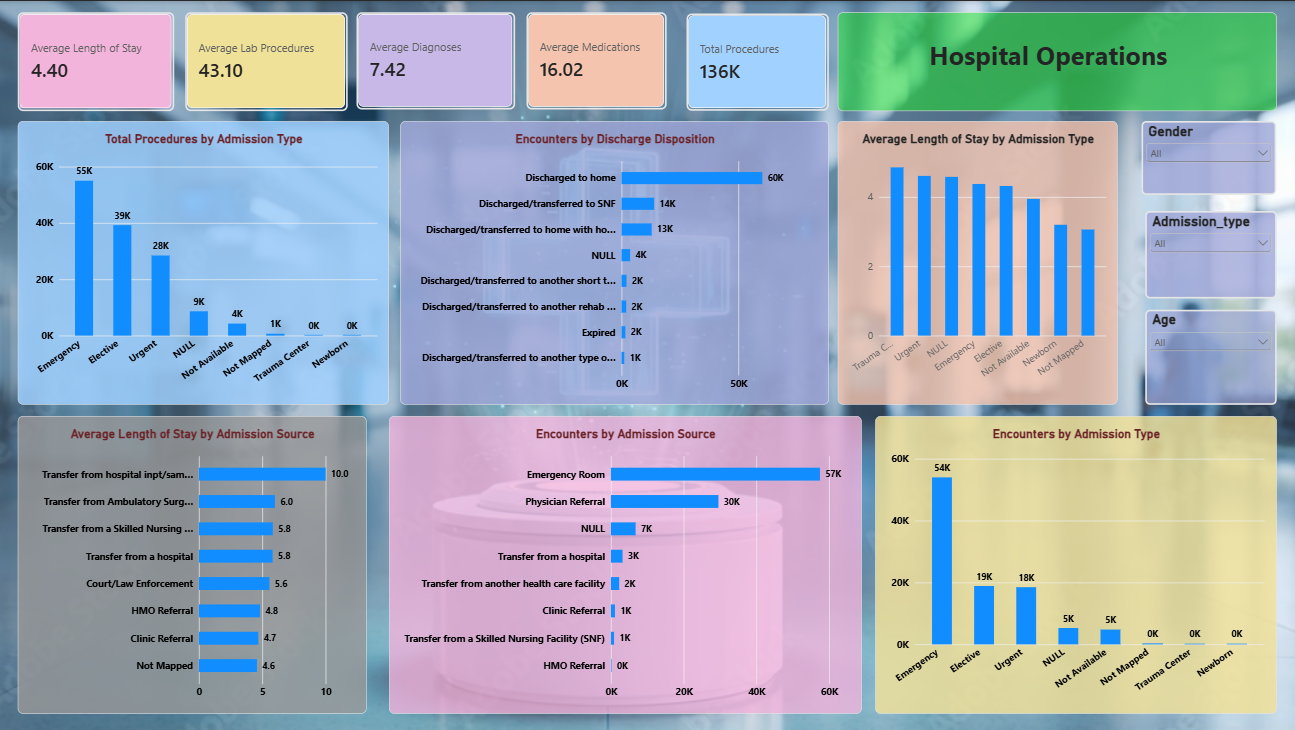

This screenshot's page, from the dashboard's own definition file:
{"tool":"powerbi","page":{"name":"Hospital Operations","canvas":[1920,1080],"ordinal":2},"visuals":[{"type":"textbox","box":[1235,16.6,646,145.4],"z":0},{"type":"cardVisual","fields":{"Data":["diabetic_data.Average Length of Stay"]},"box":[27.6,16.6,230.1,145.4],"z":1000},{"type":"cardVisual","fields":{"Data":["diabetic_data.Average Diagnoses"]},"box":[526.4,16.6,233.7,143.6],"z":2000},{"type":"cardVisual","fields":{"Data":["diabetic_data.Total Procedures"]},"box":[1012.3,18.4,209.8,143.6],"z":3000},{"type":"cardVisual","fields":{"Data":["diabetic_data.Average Lab Procedures"]},"box":[274.2,16.6,239.3,145.4],"z":4000},{"type":"cardVisual","fields":{"Data":["diabetic_data.Average Medications"]},"box":[776.7,16.6,206.1,143.6],"z":5000},{"type":"clusteredColumnChart","title":"Average Length of Stay by Admission Type","fields":{"Category":["Dim_Admission_Type.admission_type"],"Y":["diabetic_data.Average Length of Stay"]},"box":[1235,176.7,412.3,417.8],"z":6000},{"type":"clusteredBarChart","title":"Average Length of Stay by Admission Source","fields":{"Category":["Dim_Admission_Source.admission_source"],"Y":["diabetic_data.Average Length of Stay"]},"box":[27.6,611,513.5,438],"z":7000},{"type":"clusteredColumnChart","title":"Encounters by Admission Type","fields":{"Category":["Dim_Admission_Type.admission_type"],"Y":["CountNonNull(diabetic_data.encounter_id)"]},"box":[1290.2,611,590.8,438],"z":8000},{"type":"clusteredBarChart","title":"Encounters by Admission Source","fields":{"Category":["Dim_Admission_Source.admission_source"],"Y":["CountNonNull(diabetic_data.encounter_id)"]},"box":[574.2,611,695.7,438],"z":9000},{"type":"clusteredBarChart","title":"Encounters by Discharge Disposition","fields":{"Category":["Dim_Discharge.discharge_disposition"],"Y":["CountNonNull(diabetic_data.encounter_id)"]},"box":[590.8,176.7,631.3,417.8],"z":10000},{"type":"slicer","fields":{"Values":["Dim_Admission_Type.admission_type"]},"box":[1687.7,309.2,193.3,128.8],"z":11000},{"type":"slicer","fields":{"Values":["diabetic_data.gender"]},"box":[1682.2,176.7,198.8,108.6],"z":12000},{"type":"slicer","fields":{"Values":["diabetic_data.age"]},"box":[1687.7,454.6,193.3,139.9],"z":13000},{"type":"clusteredColumnChart","title":"Total Procedures by Admission Type","fields":{"Category":["Dim_Admission_Type.admission_type"],"Y":["diabetic_data.Total Procedures"]},"box":[27.6,176.7,546.6,417.8],"z":14000}]}

Visuals, with their boxes in screenshot pixels (x1, y1, x2, y2), scaled from the page's 1920x1080 canvas onto the 1295x730 screenshot:
textbox: (833,11,1269,110)
cardVisual - diabetic_data.Average Length of Stay: (19,11,174,110)
cardVisual - diabetic_data.Average Diagnoses: (355,11,513,108)
cardVisual - diabetic_data.Total Procedures: (683,12,824,110)
cardVisual - diabetic_data.Average Lab Procedures: (185,11,346,110)
cardVisual - diabetic_data.Average Medications: (524,11,663,108)
"Average Length of Stay by Admission Type" clusteredColumnChart: (833,119,1111,402)
"Average Length of Stay by Admission Source" clusteredBarChart: (19,413,365,709)
"Encounters by Admission Type" clusteredColumnChart: (870,413,1269,709)
"Encounters by Admission Source" clusteredBarChart: (387,413,857,709)
"Encounters by Discharge Disposition" clusteredBarChart: (398,119,824,402)
slicer - Dim_Admission_Type.admission_type: (1138,209,1269,296)
slicer - diabetic_data.gender: (1135,119,1269,193)
slicer - diabetic_data.age: (1138,307,1269,402)
"Total Procedures by Admission Type" clusteredColumnChart: (19,119,387,402)
